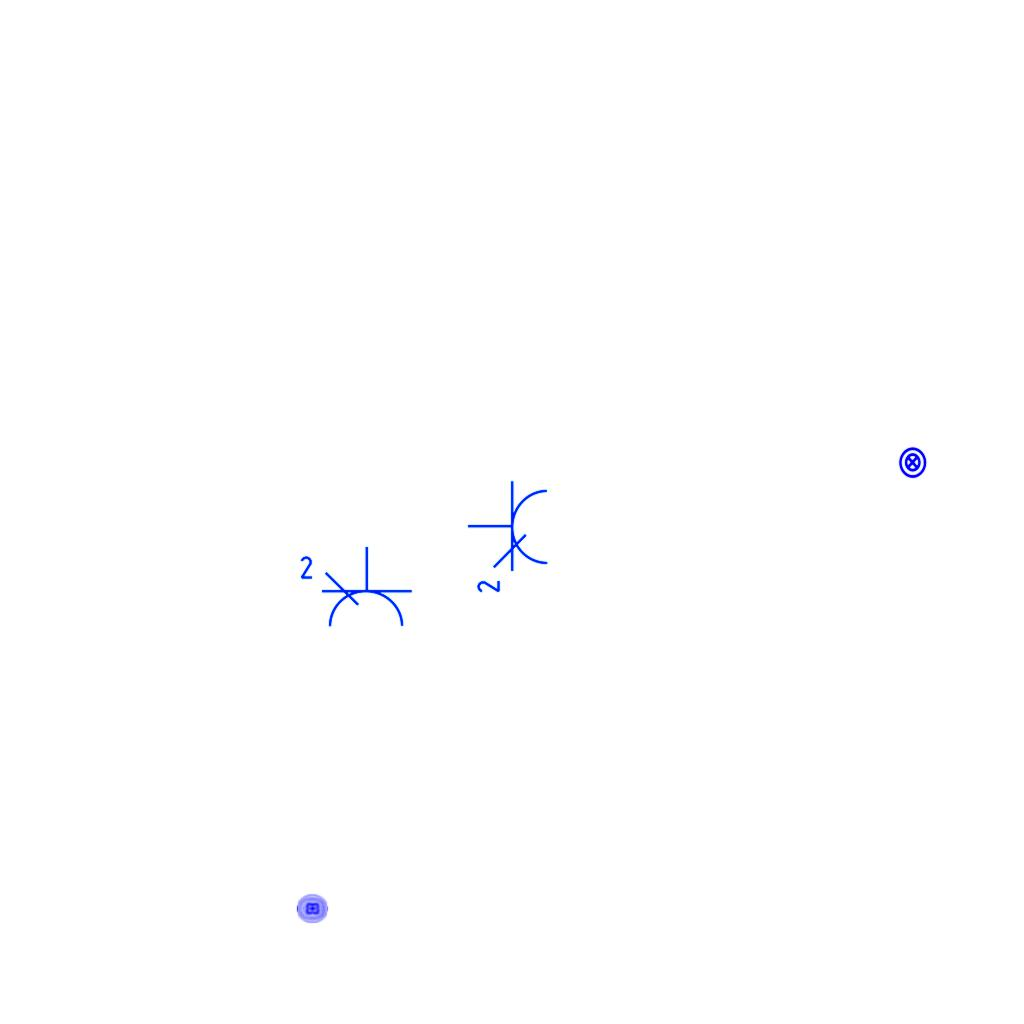Schukosteckdose_mehrfach: (293, 545, 414, 633), (466, 479, 554, 600)
Taster_beleuchtet: (896, 446, 929, 479), (296, 892, 329, 925)
